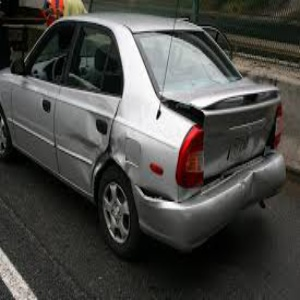bumper: (134, 182, 211, 253)
